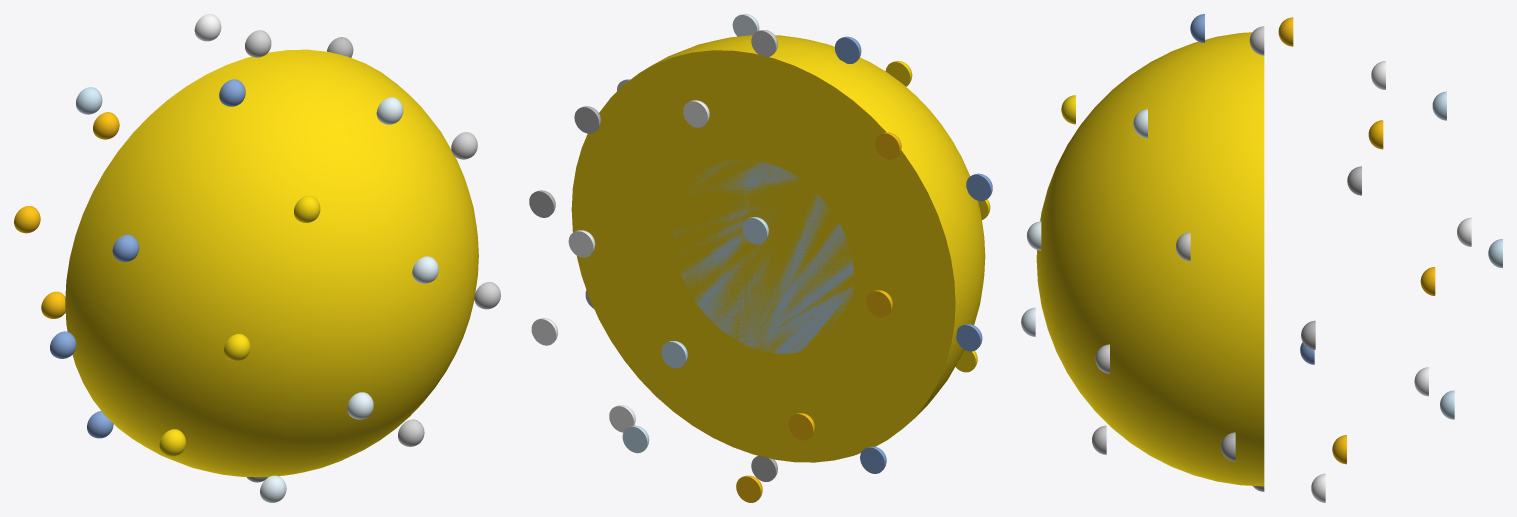
File: 06_endosome_LNP_inside - Composite part 1.glb
The picture shows the model from 3 angles, left to right: view 1: azimuth 30°, elevation 25°; view 2: azimuth 150°, elevation 25°; view 3: azimuth 270°, elevation 25°; orthographic projection. The views are drawn at different scales.
Parts seen in each view (by area): view 1: Open CASCADE STEP translator 7.9 6.1, Open CASCADE STEP translator 7.9 6.7, Open CASCADE STEP translator 7.9 6.4, Open CASCADE STEP translator 7.9 6.3, Open CASCADE STEP translator 7.9 6.6, Open CASCADE STEP translator 7.9 6.11, Open CASCADE STEP translator 7.9 6.22, Open CASCADE STEP translator 7.9 6.27, Open CASCADE STEP translator 7.9 6.19, Open CASCADE STEP translator 7.9 6.5, Open CASCADE STEP translator 7.9 6.14, Open CASCADE STEP translator 7.9 6.9 (+9 smaller); view 2: Open CASCADE STEP translator 7.9 6.1, Open CASCADE STEP translator 7.9 6.2, Open CASCADE STEP translator 7.9 6.5, Open CASCADE STEP translator 7.9 6.7, Open CASCADE STEP translator 7.9 6.16, Open CASCADE STEP translator 7.9 6.12, Open CASCADE STEP translator 7.9 6.15, Open CASCADE STEP translator 7.9 6.18, Open CASCADE STEP translator 7.9 6.26, Open CASCADE STEP translator 7.9 6.10, Open CASCADE STEP translator 7.9 6.13, Open CASCADE STEP translator 7.9 6.23 (+9 smaller); view 3: Open CASCADE STEP translator 7.9 6.1.
Boxes of the visible parts, x1=… form: Open CASCADE STEP translator 7.9 6.1: x1=65, y1=49, x2=478, y2=477; Open CASCADE STEP translator 7.9 6.7: x1=93, y1=112, x2=119, y2=139; Open CASCADE STEP translator 7.9 6.4: x1=219, y1=79, x2=245, y2=106; Open CASCADE STEP translator 7.9 6.3: x1=245, y1=30, x2=271, y2=57; Open CASCADE STEP translator 7.9 6.6: x1=376, y1=97, x2=403, y2=124; Open CASCADE STEP translator 7.9 6.11: x1=451, y1=132, x2=477, y2=159; Open CASCADE STEP translator 7.9 6.22: x1=347, y1=392, x2=373, y2=419; Open CASCADE STEP translator 7.9 6.27: x1=398, y1=419, x2=424, y2=446; Open CASCADE STEP translator 7.9 6.19: x1=474, y1=282, x2=500, y2=309; Open CASCADE STEP translator 7.9 6.5: x1=194, y1=14, x2=221, y2=41; Open CASCADE STEP translator 7.9 6.14: x1=412, y1=256, x2=438, y2=283; Open CASCADE STEP translator 7.9 6.9: x1=294, y1=195, x2=320, y2=222; Open CASCADE STEP translator 7.9 6.1: x1=571, y1=35, x2=985, y2=462; Open CASCADE STEP translator 7.9 6.2: x1=673, y1=159, x2=853, y2=353; Open CASCADE STEP translator 7.9 6.5: x1=683, y1=100, x2=709, y2=127; Open CASCADE STEP translator 7.9 6.7: x1=875, y1=132, x2=901, y2=159; Open CASCADE STEP translator 7.9 6.16: x1=529, y1=190, x2=555, y2=217; Open CASCADE STEP translator 7.9 6.12: x1=966, y1=173, x2=992, y2=201; Open CASCADE STEP translator 7.9 6.15: x1=866, y1=290, x2=892, y2=317; Open CASCADE STEP translator 7.9 6.18: x1=661, y1=341, x2=687, y2=368; Open CASCADE STEP translator 7.9 6.26: x1=622, y1=425, x2=649, y2=453; Open CASCADE STEP translator 7.9 6.10: x1=742, y1=217, x2=768, y2=244; Open CASCADE STEP translator 7.9 6.13: x1=568, y1=230, x2=595, y2=257; Open CASCADE STEP translator 7.9 6.23: x1=788, y1=413, x2=814, y2=440; Open CASCADE STEP translator 7.9 6.1: x1=1036, y1=32, x2=1264, y2=486.
Bounding box in the file's own units: 0.0154 × 0.0157 × 0.0148.
